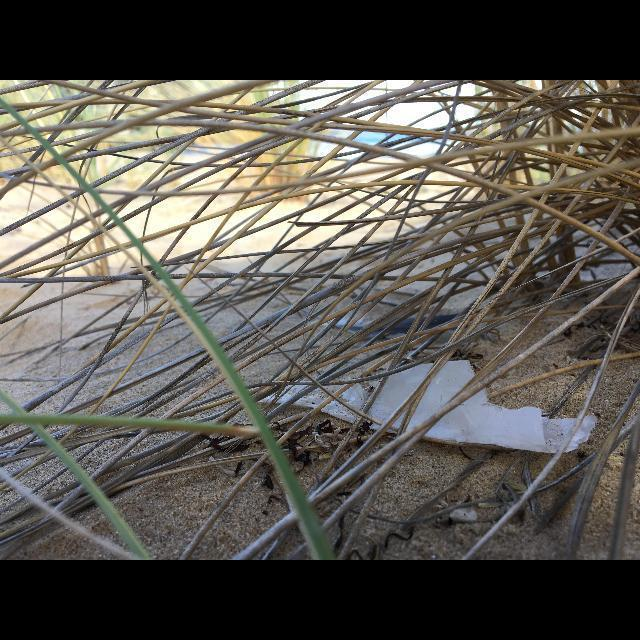Plastic: (258, 360, 598, 452)
